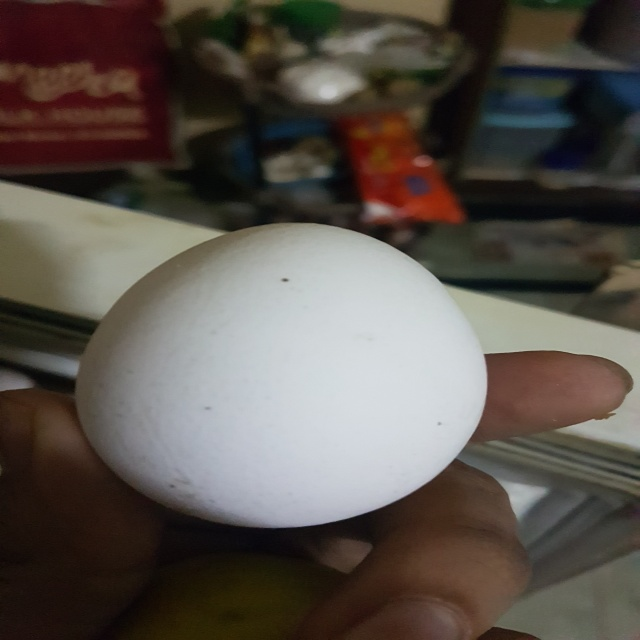eggs: (71, 219, 504, 521)
